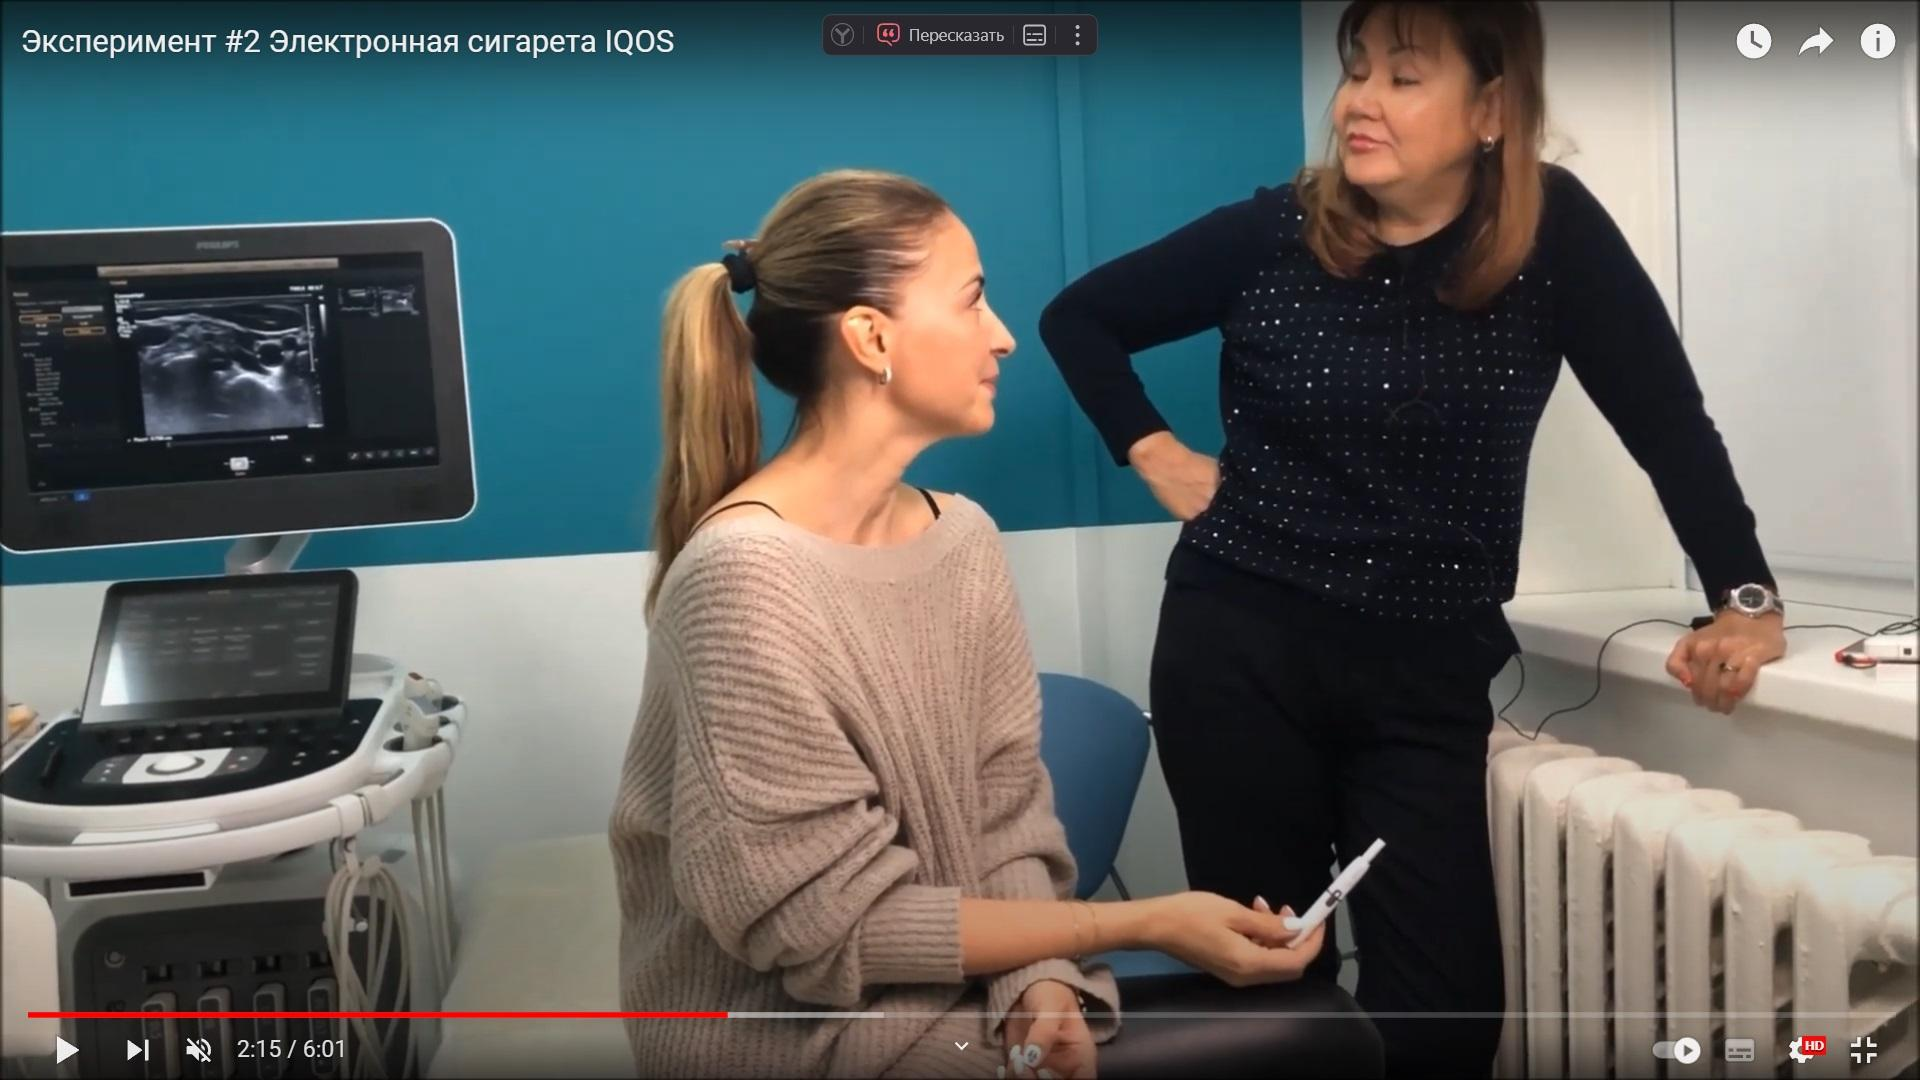iqos: (1283, 837, 1386, 949)
